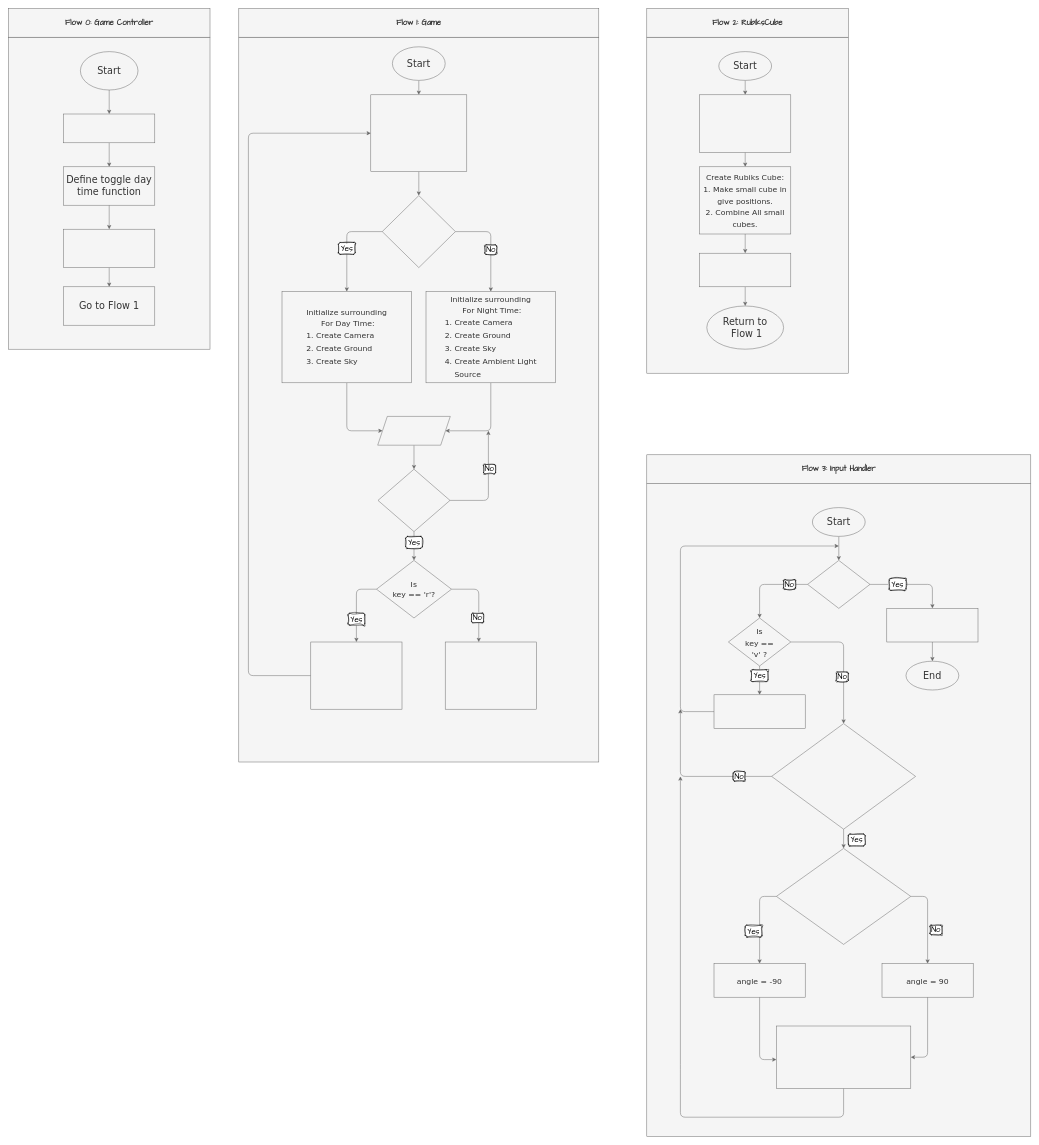
Some shapes in this 1039 by 1145 pixel diagram are drawn without their labels. Each missing label, with the box of its shape:
1. Create Input handler instance. 2. Go to flow 3: (445, 642, 536, 709)
Add Sensors For User Interactions: (699, 253, 791, 287)
Create Cube Position: 1. Center = (0,0,0) 2. Range of x = y = z = (-1, 0 , 1): (699, 94, 791, 152)
Initialize Game class: (63, 229, 155, 268)
Is 'day_time == ture'?: (382, 195, 455, 268)
Is action mode and mouse button clicked and collided with sensor ?: (771, 723, 916, 829)
Is key == 'exit' ?: (807, 560, 870, 608)
Is right arrow pressed and right mouse button clicked?: (776, 848, 911, 944)
Is there any user input?: (378, 469, 450, 532)
Load Game 1. Initialize Rubiks Cube 2. Create Rubkis Cube 3. Go to flow 2: (370, 94, 467, 172)
Loop For User Input: (377, 416, 450, 445)
Restart Game: 1. Destroy all Game Entities 2. Call Load Game: (310, 642, 402, 709)
Rotate Collided Cube Face: 1. About axis perpendicular to it 2. Throught "angle": (776, 1026, 911, 1088)
Setup Ursina: (63, 114, 155, 143)
Terminate Game: (886, 608, 978, 642)
Toggle Game mode: view or action: (714, 694, 805, 728)
